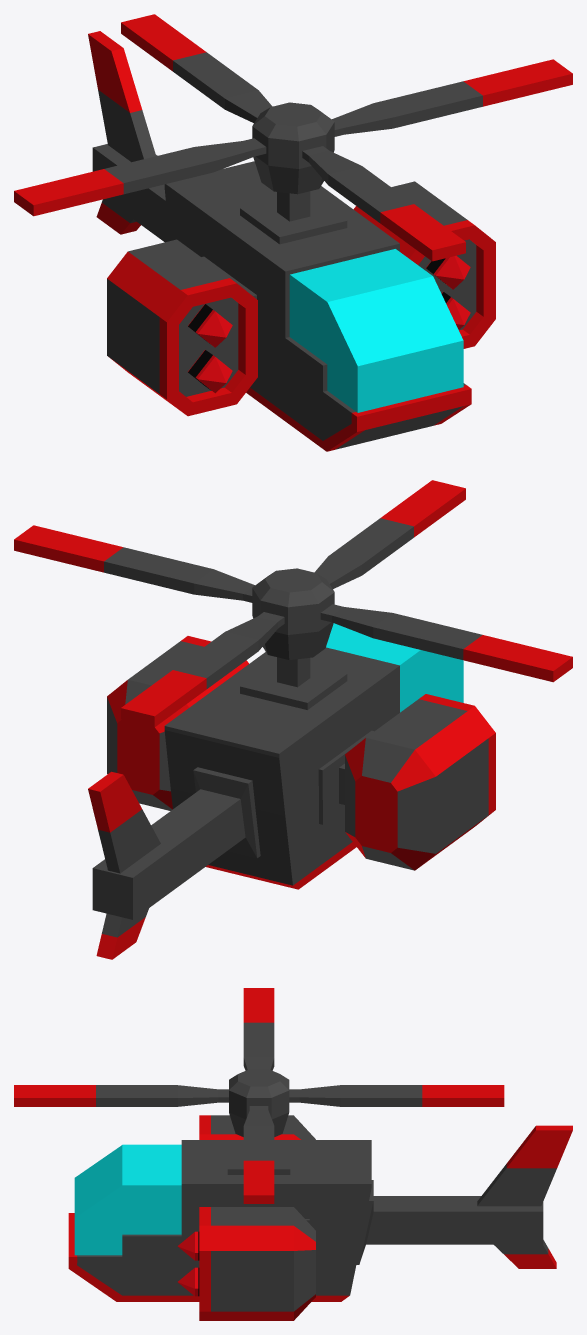
Rendered from HelicopterMediumRocket.fbx.
3 renders of one model, top to bottom at view 1: azimuth 30°, elevation 25°; view 2: azimuth 150°, elevation 25°; view 3: azimuth 270°, elevation 25°, orthographic. The views are drawn at different scales.
Visible parts, largest first — view 1: Body, Rotor, Turret_RocketMedium, Tail, Projectile_Rocket.001; view 2: Body, Rotor, Turret_RocketMedium, Tail; view 3: Body, Rotor, Turret_RocketMedium, Tail, Projectile_Rocket.001.
Boxes of the visible parts, x1,y1,x2,y2 form: Body: (164,161,471,451); Rotor: (14,14,572,261); Turret_RocketMedium: (107,181,495,416); Tail: (88,31,169,242); Projectile_Rocket.001: (188,255,470,393); Body: (164,623,463,889); Rotor: (14,480,572,727); Turret_RocketMedium: (107,636,495,870); Tail: (88,767,260,959); Body: (68,1140,371,1301); Rotor: (14,988,504,1203); Turret_RocketMedium: (199,1115,315,1320); Tail: (356,1125,572,1268); Projectile_Rocket.001: (177,1231,199,1296).
Size of the model in its own units: 590 by 269 by 673.
